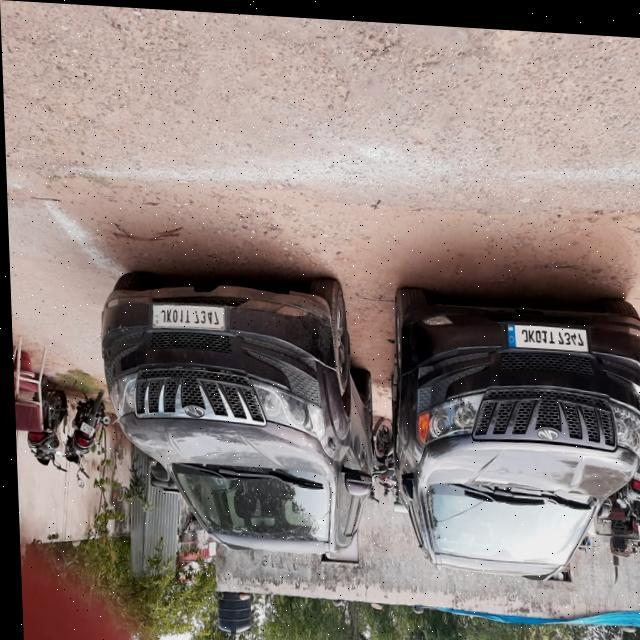plate: (501, 312, 594, 351), (144, 298, 230, 335), (73, 419, 92, 439), (631, 464, 640, 479)
